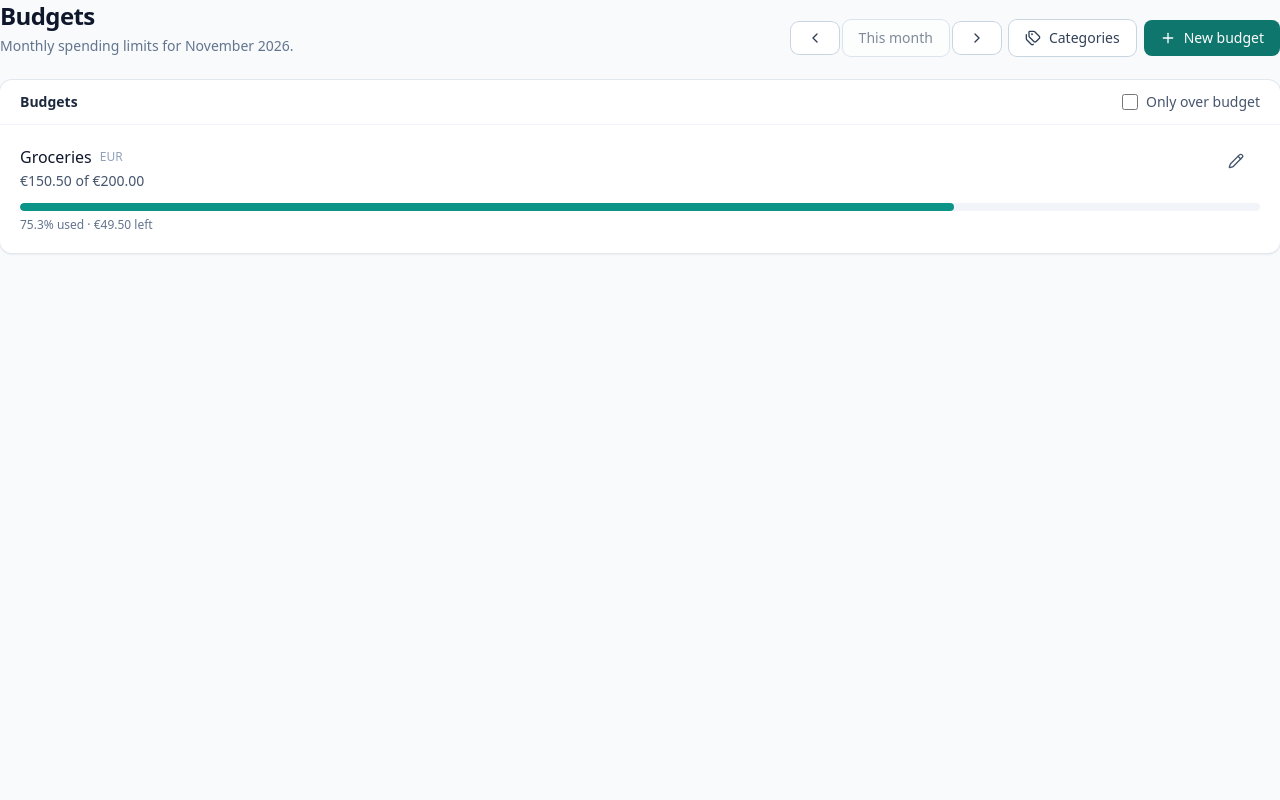
Test: BudgetsPage › validates the limit and shows a duplicate-budget message from the server
Expected: the text "€150.50 of €200.00" is shown, [20, 171, 144, 191]
Click the button "New budget".
click(1212, 38)  # box [1144, 20, 1279, 56]
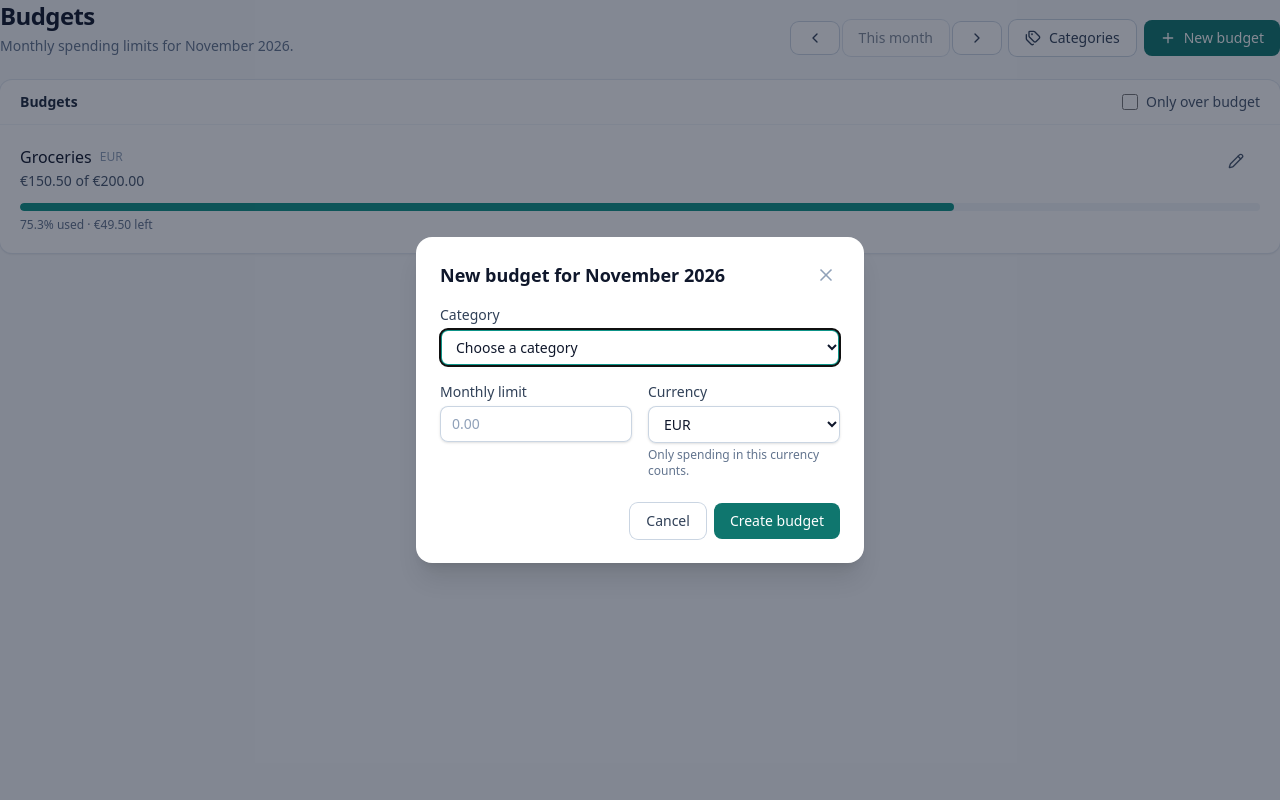
Click the button "Create budget".
click(777, 521)  # box [714, 503, 840, 539]
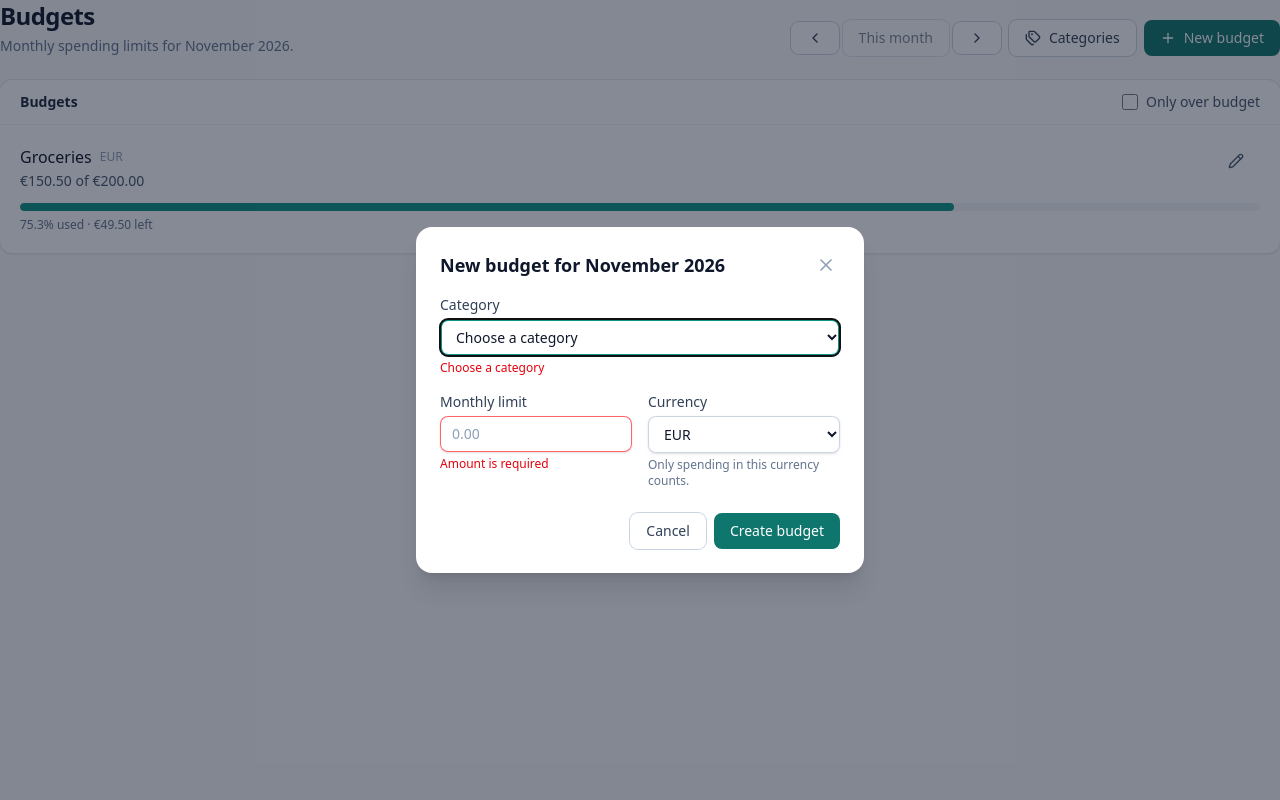
Now the messages read "Choose a category", "Amount is required", in this order, box [440, 359, 544, 376]; [440, 455, 549, 472]
Select "Groceries" in the dropdown labelled "Category" at (640, 338), box [440, 319, 840, 356]
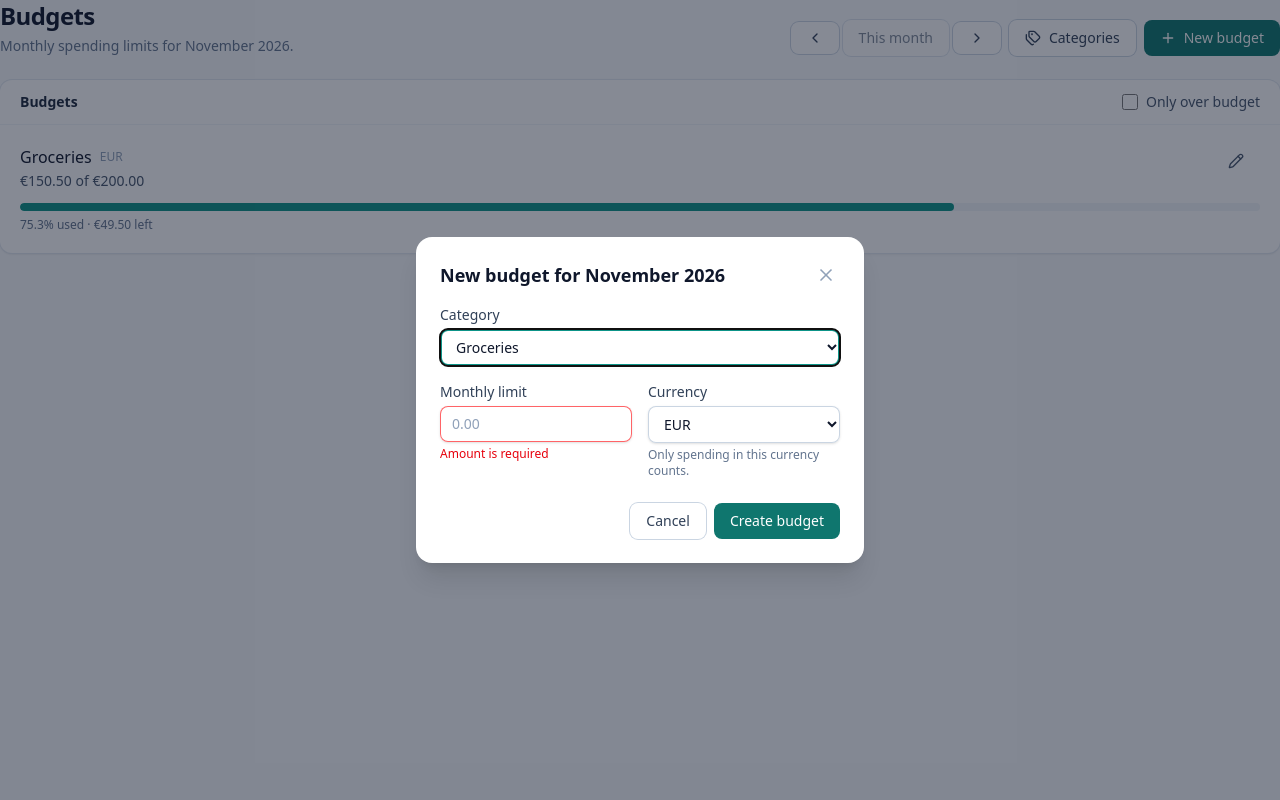
Type "100" into the field labelled "Monthly limit".
click(536, 424); type("100")  # box [440, 406, 632, 442]
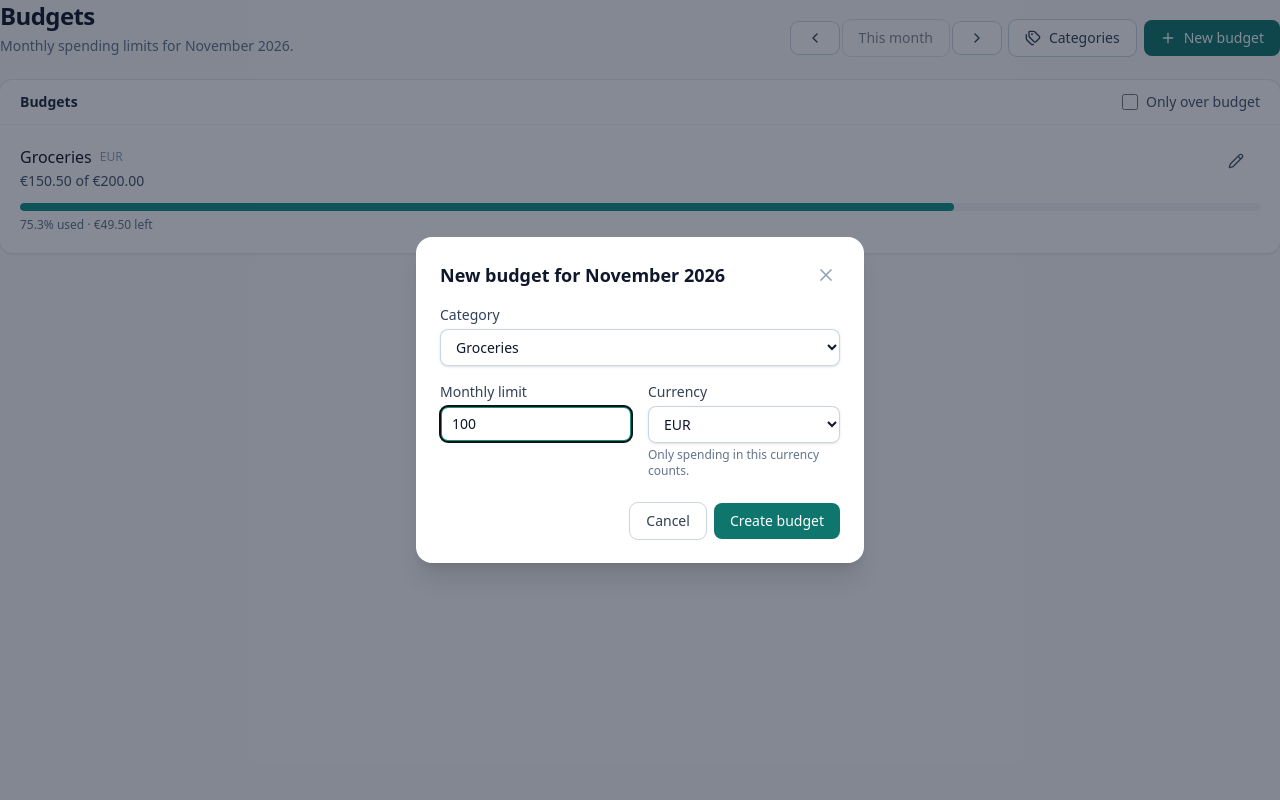
Click the button "Create budget".
click(777, 521)  # box [714, 503, 840, 539]
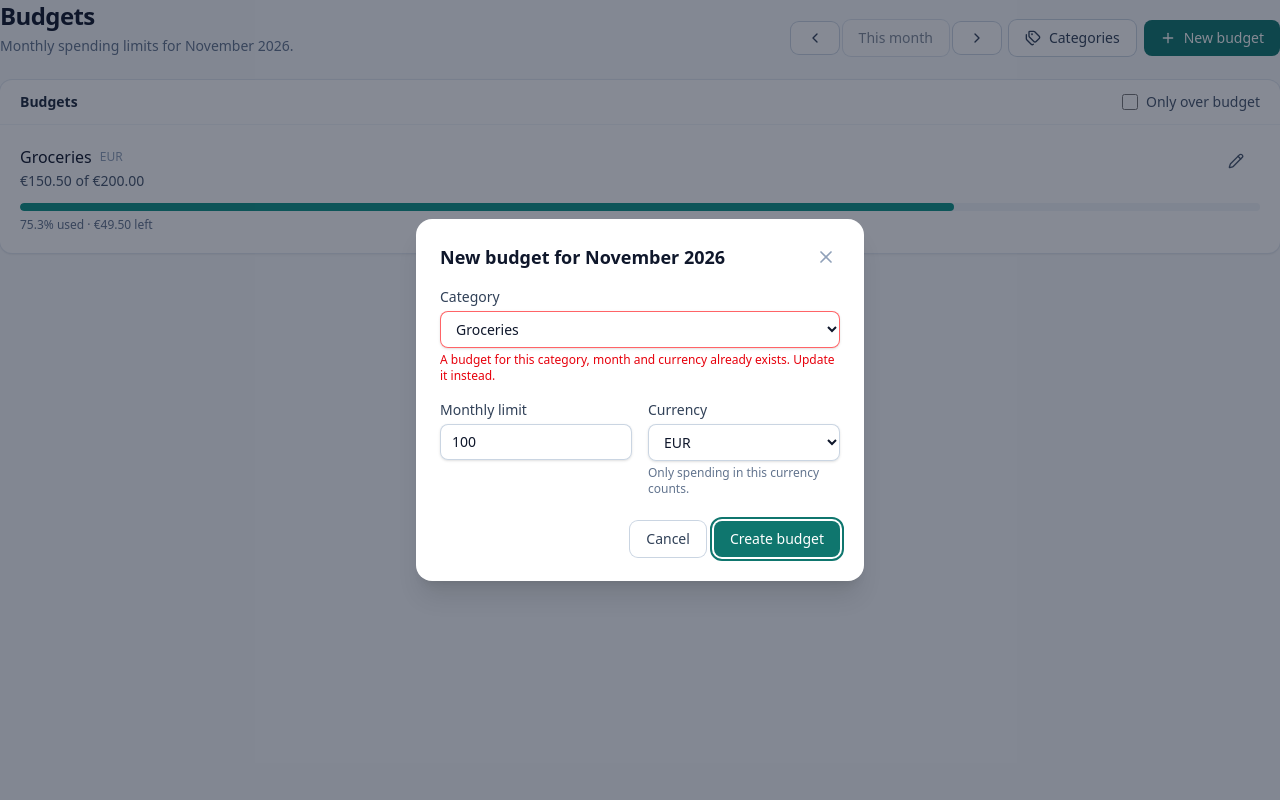
Now the text "already exists" is shown, box [440, 351, 834, 384]
